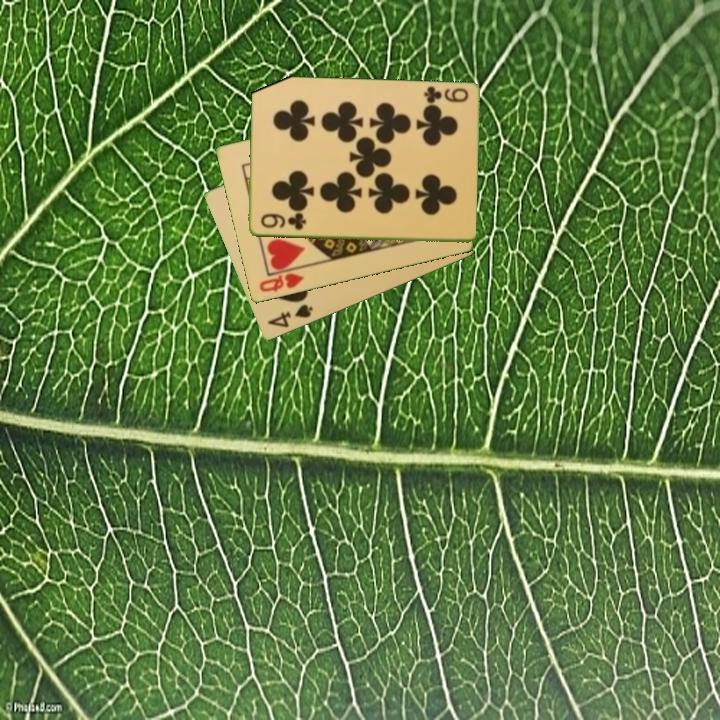4s: (263, 301, 316, 331)
9c: (420, 83, 471, 106), (257, 211, 309, 233)
Qh: (255, 264, 307, 295)
